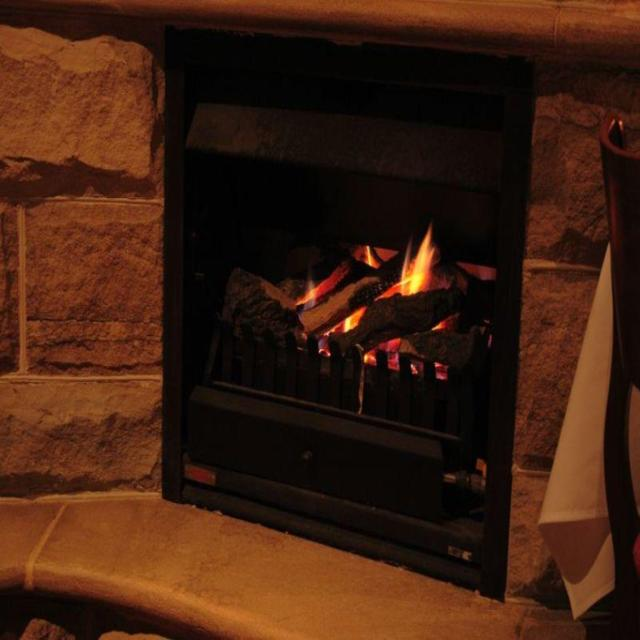Fire: (319, 224, 449, 364)
